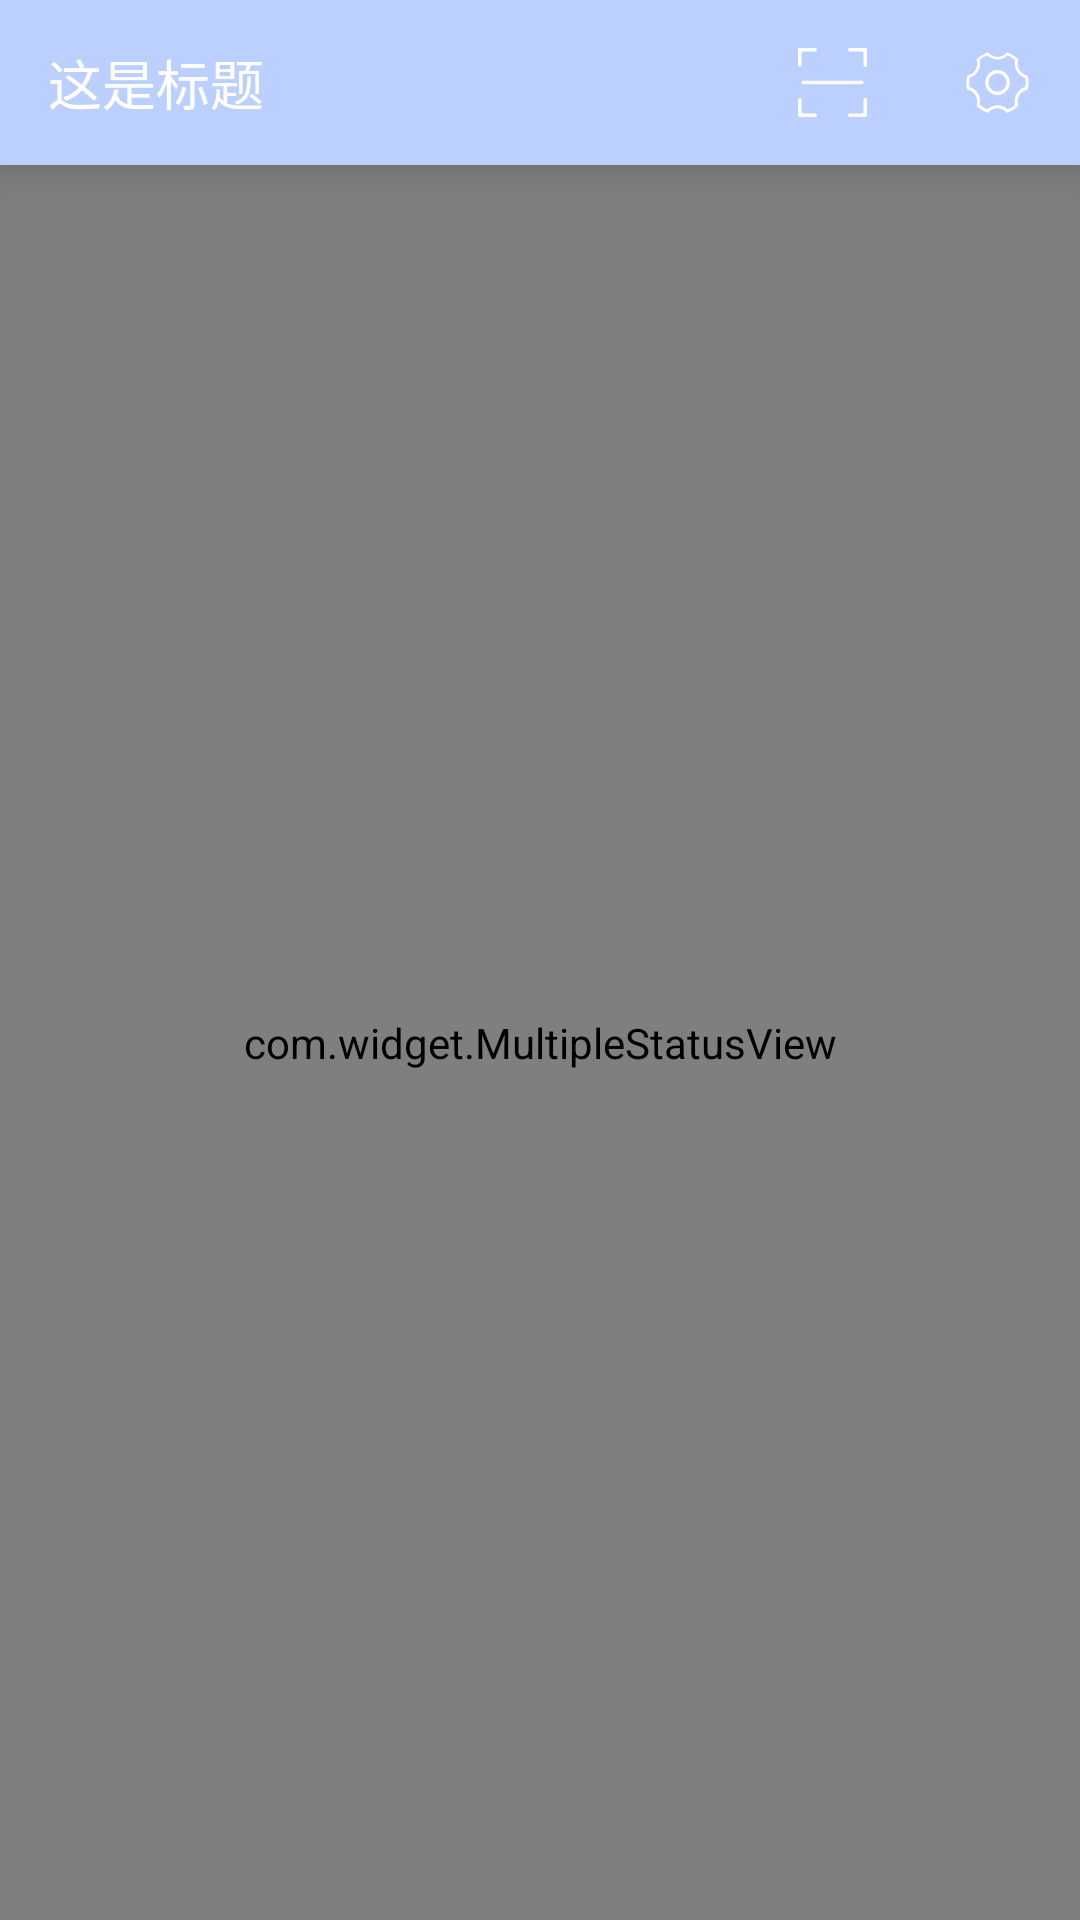

Where to tap for icons on this 1080*1920 app screen, as [x,y]:
scan: [832,82]
setting: [997,82]
